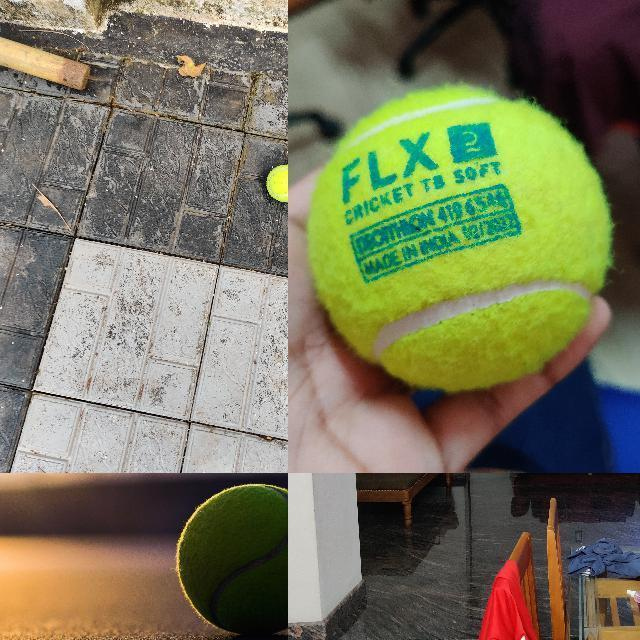tennis-ball: (309, 86, 610, 387), (176, 482, 287, 634), (265, 164, 287, 203)
